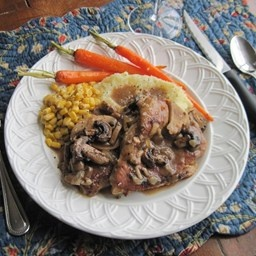background: (6, 12, 86, 79)
